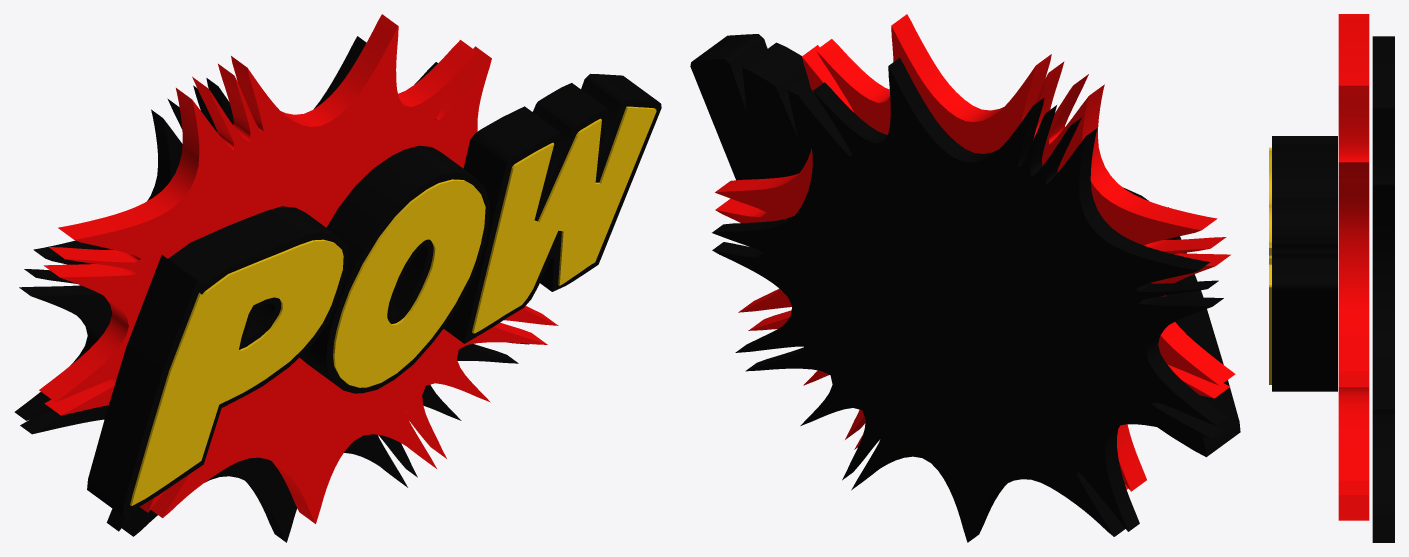
Rendered from asset.glb.
3 renders of one model, left to right at view 1: azimuth 30°, elevation 25°; view 2: azimuth 150°, elevation 25°; view 3: azimuth 270°, elevation 25°, orthographic. The views are drawn at different scales.
Parts seen in each view (by area): view 1: Pow_mesh_.2; view 2: Pow_mesh_.2; view 3: Pow_mesh_.2.
Part boxes in pixels (bbox=[...]): Pow_mesh_.2: bbox=[14, 14, 661, 542]; Pow_mesh_.2: bbox=[690, 14, 1240, 542]; Pow_mesh_.2: bbox=[1269, 14, 1394, 542].
Bounding box in the file's own units: 1.06 × 0.8845 × 0.2158.
